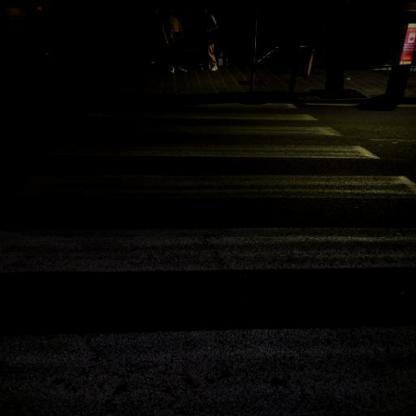crosswalk: (0, 219, 416, 415), (38, 118, 388, 166)
